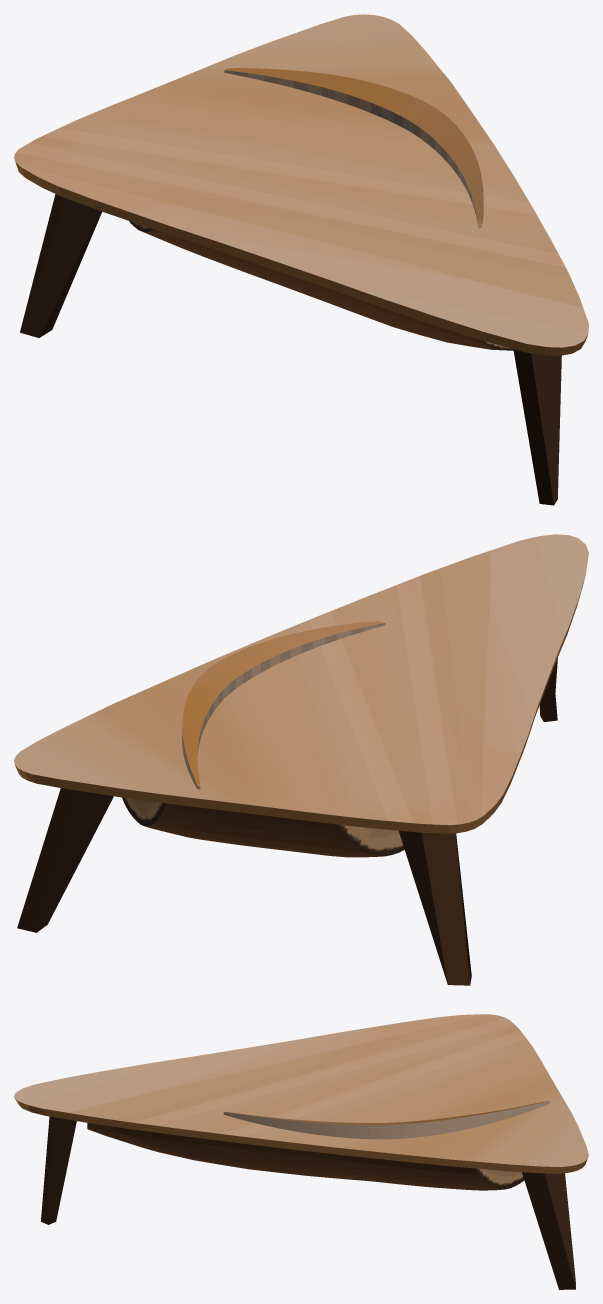
File: coffeeTable 1.fbx
3 views of the same model, one above another, from view 1: azimuth 30°, elevation 25°; view 2: azimuth 150°, elevation 25°; view 3: azimuth 270°, elevation 25° (orthographic). The views are drawn at different scales.
Parts seen in each view (by area): view 1: Plane.001; view 2: Plane.001; view 3: Plane.001.
Part boxes in pixels (x1,y1,x2,y2): Plane.001: (14, 14, 588, 505); Plane.001: (14, 534, 588, 985); Plane.001: (14, 1014, 588, 1289).
Bounding box in the file's own units: 606 × 258 × 962.
Materials: 1 (1 with a texture image).
